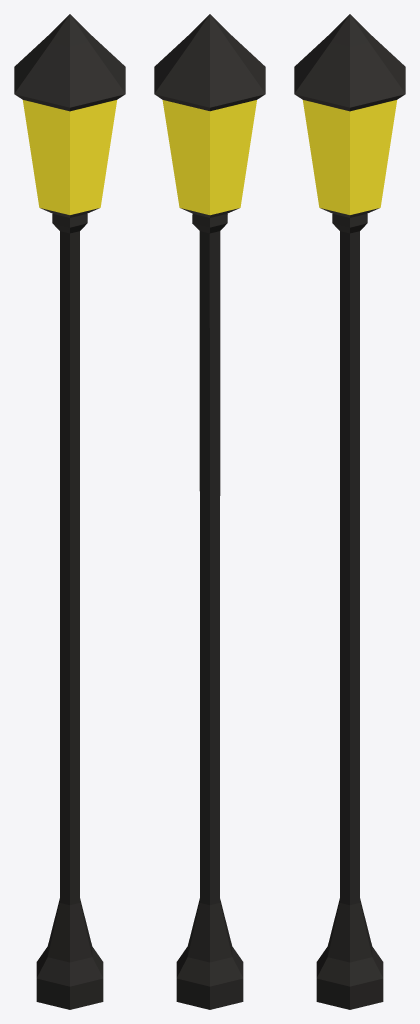
Rendered from lamp_post.glb.
3 views of the same model, side by side, from view 1: azimuth 90°, elevation 25°; view 2: azimuth 210°, elevation 25°; view 3: azimuth 270°, elevation 25° (orthographic).
Visible parts, largest first — view 1: lamp_post_lamp; view 2: lamp_post_lamp; view 3: lamp_post_lamp.
Part boxes in pixels (<box>): lamp_post_lamp: <box>14,14,125,1009</box>; lamp_post_lamp: <box>154,14,265,1009</box>; lamp_post_lamp: <box>294,14,405,1009</box>.
Size of the model in its own units: 0.5 by 4.2 by 0.4336.
2 materials, 2 textured.
